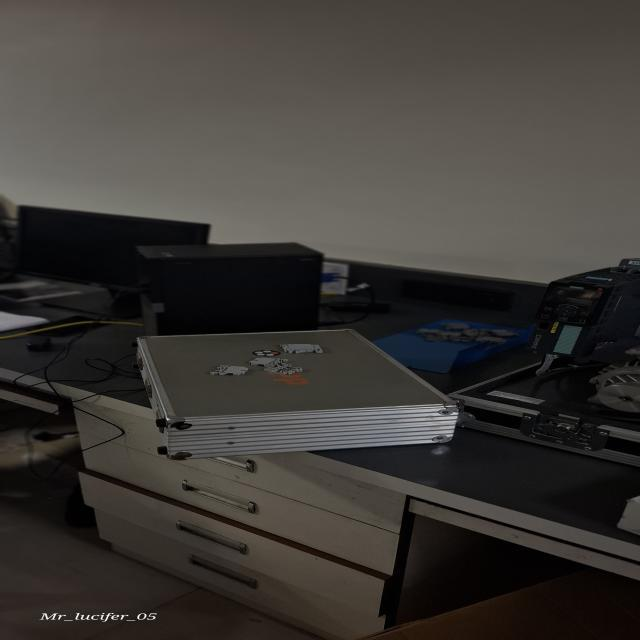Inverted: (209, 364, 251, 378), (252, 357, 286, 368)
